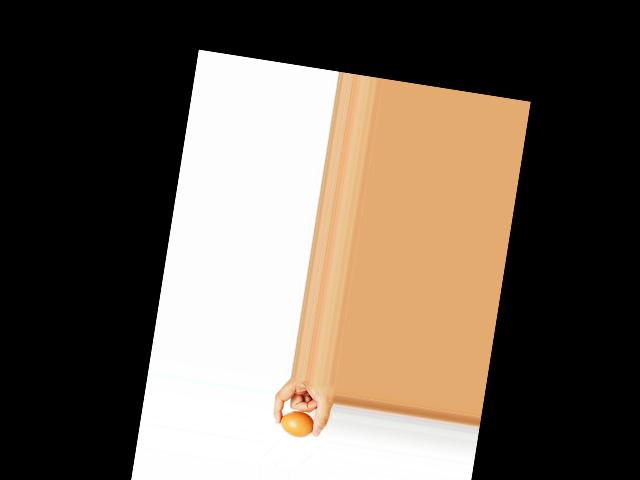egg: (277, 408, 315, 440)
